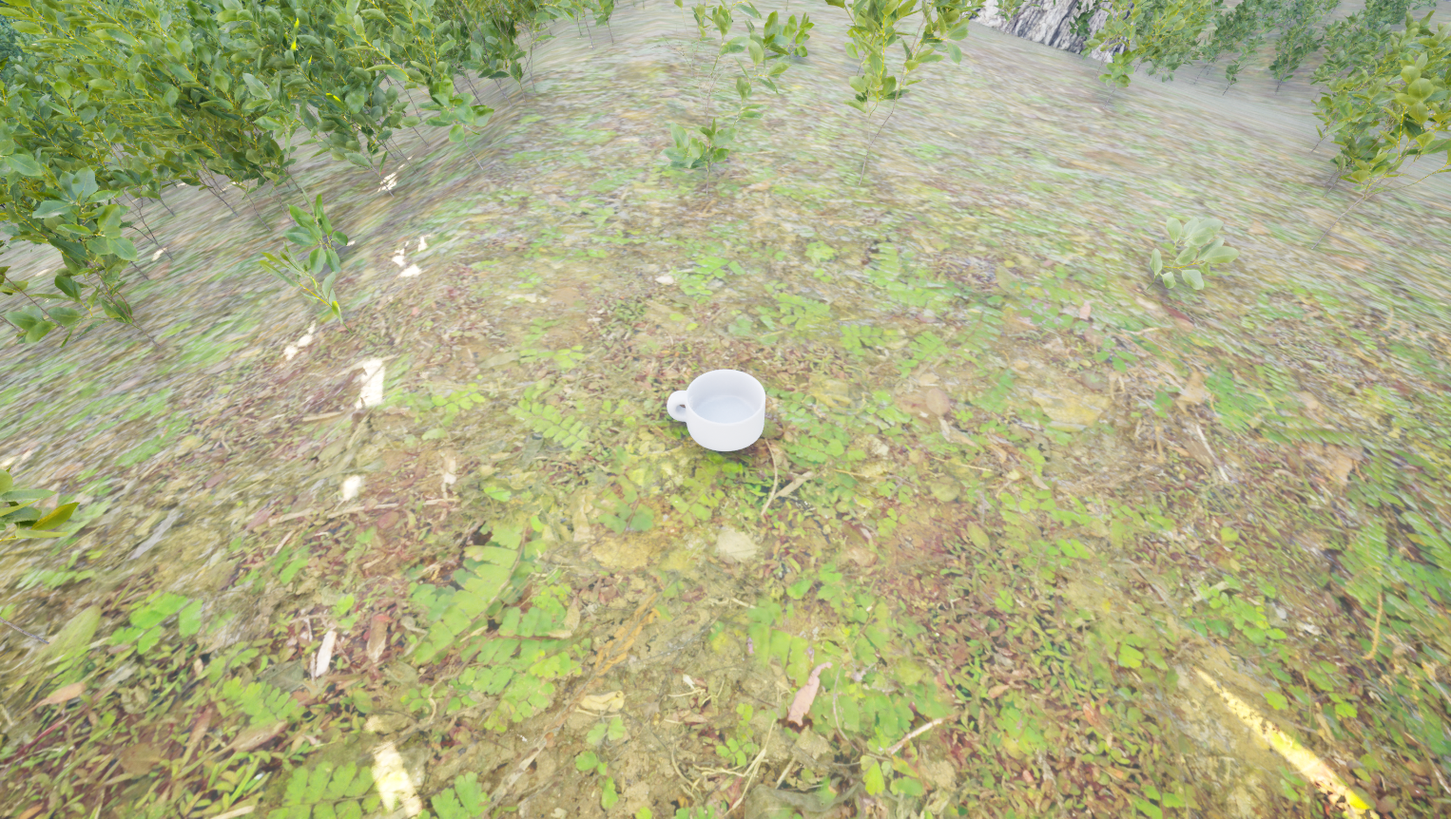Teacup: (660, 354, 782, 465)
